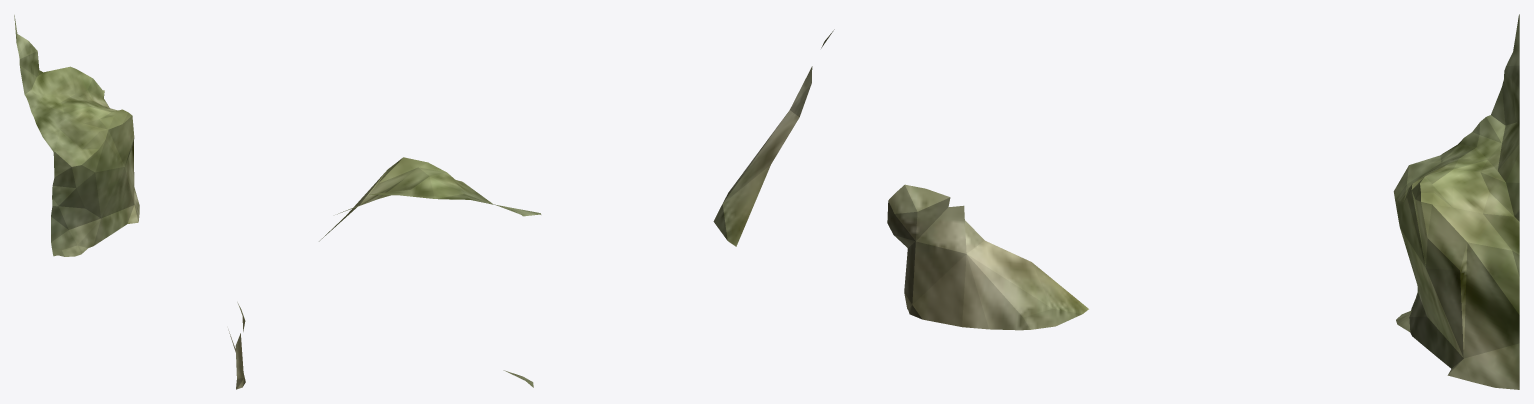
3 renders of one model, left to right at view 1: azimuth 30°, elevation 25°; view 2: azimuth 150°, elevation 25°; view 3: azimuth 270°, elevation 25°, orthographic. The views are drawn at different scales.
Size of the model in its own units: 1.26 by 2.14 by 4.15.
Materials: 1 (1 with a texture image).
